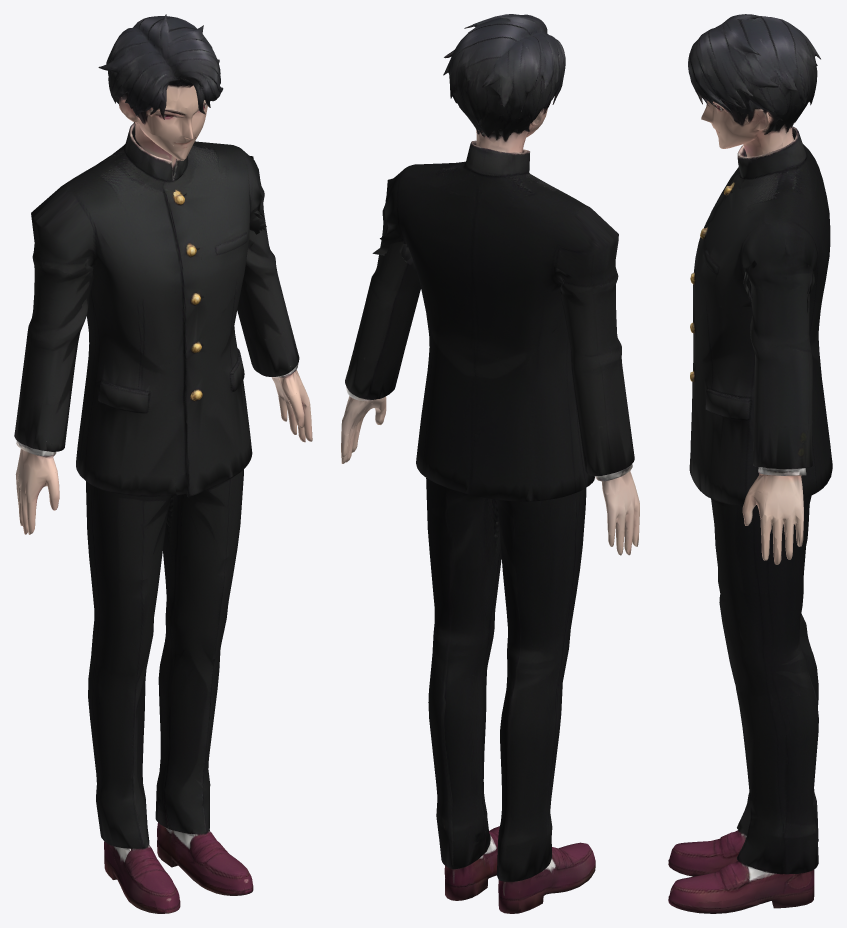
The model's file is malestudent.glb.
3 views of the same model, side by side, from view 1: azimuth 30°, elevation 25°; view 2: azimuth 150°, elevation 25°; view 3: azimuth 270°, elevation 25° (orthographic).
Visible parts, largest first — view 1: mesh_node; view 2: mesh_node; view 3: mesh_node.
Part boxes in pixels (box(x1,y1,x2,y2)): mesh_node: box(14, 14, 312, 913); mesh_node: box(341, 14, 639, 913); mesh_node: box(668, 14, 832, 913).
Size of the model in its own units: 0.6619 by 1.9 by 0.3253.
1 material, 1 textured.
